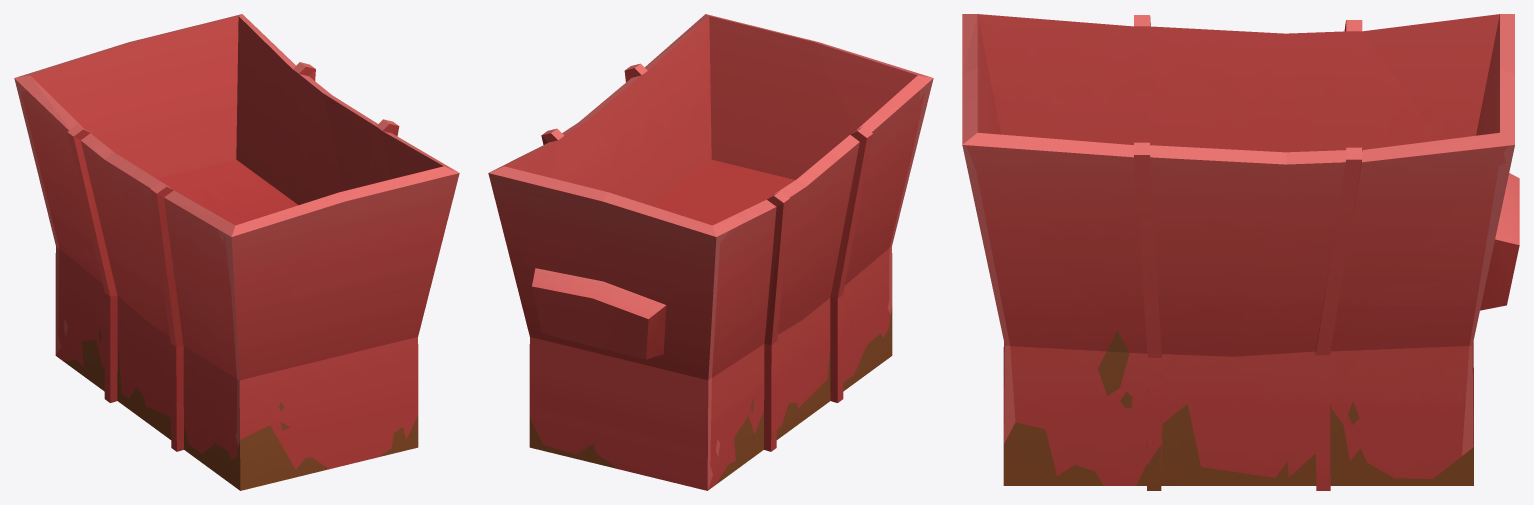
File: SM_Trashcan_Big.fbx
3 views of the same model, side by side, from view 1: azimuth 30°, elevation 25°; view 2: azimuth 150°, elevation 25°; view 3: azimuth 270°, elevation 25° (orthographic). The views are drawn at different scales.
Visible parts, largest first — view 1: Box001; view 2: Box001; view 3: Box001.
Boxes of the visible parts, left/top/right/bottom form: Box001: left=14, top=14, right=459, bottom=490; Box001: left=488, top=14, right=933, bottom=490; Box001: left=962, top=14, right=1519, bottom=490.
Bounding box in the file's own units: 1.7 × 1.92 × 2.66.
1 material, 1 textured.
